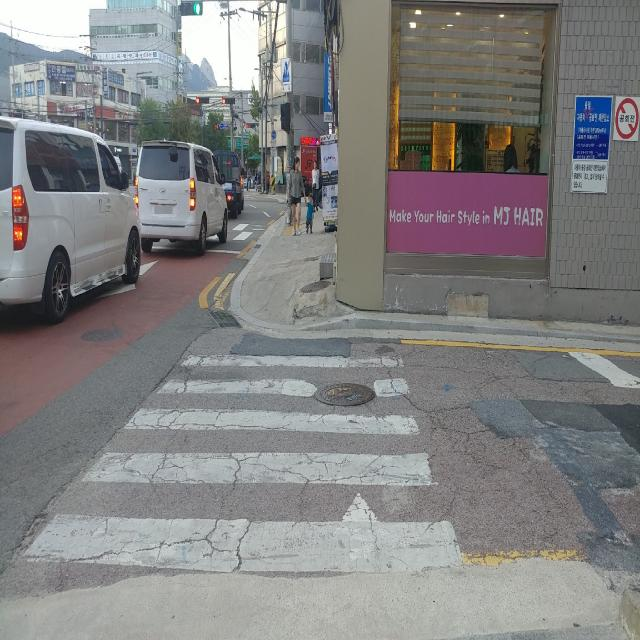횡단보도: (21, 352, 466, 578)
